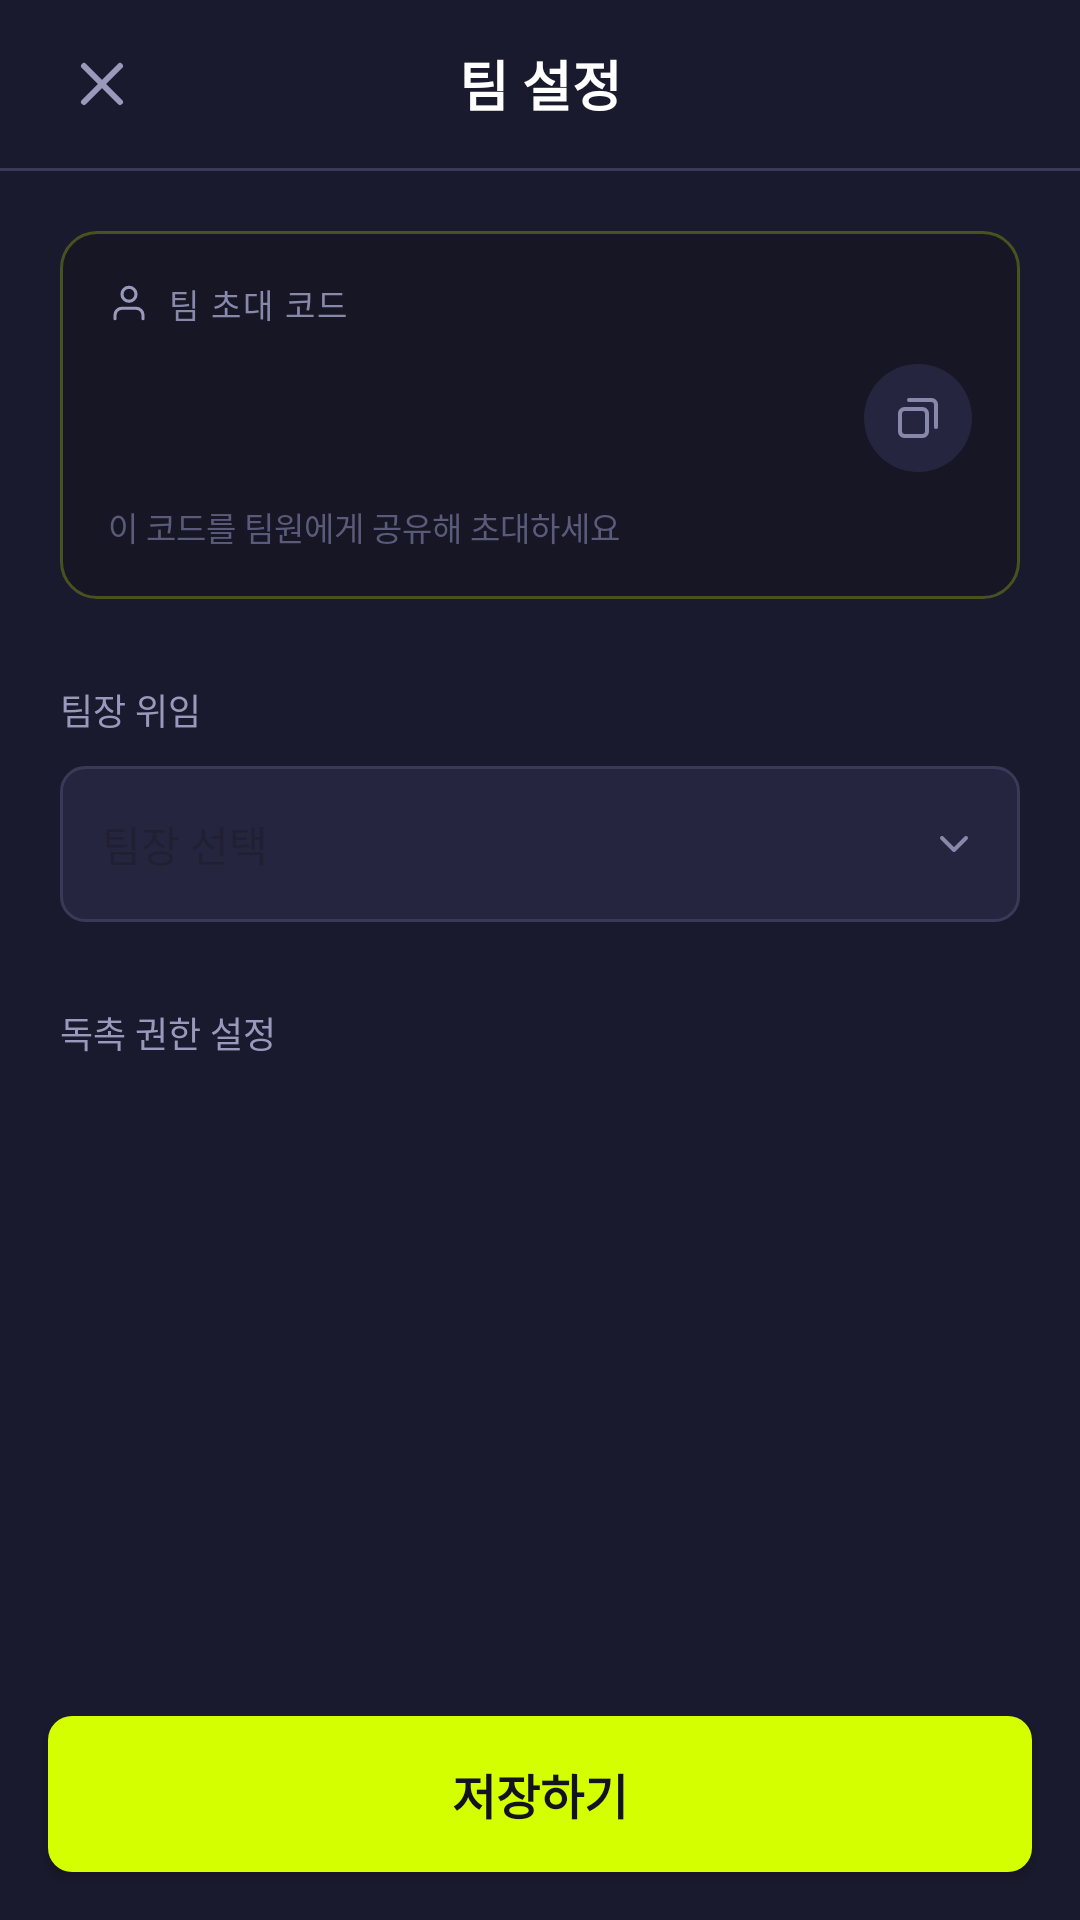

Screen size 1080px x 1920px. Icon name, then its box in pixels as (x1, y1, x2, y2):
chevron down: (940, 836, 968, 852)
person: (113, 285, 145, 320)
닫기: (81, 63, 123, 105)
코드 복사: (864, 364, 972, 472)
